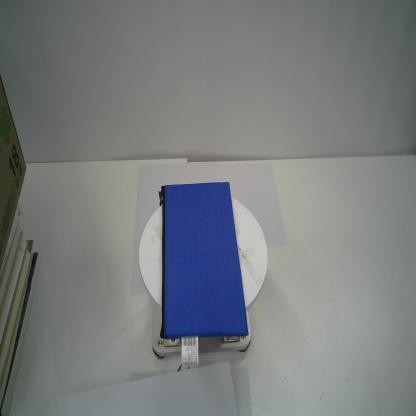Stationery: (158, 182, 249, 340)
